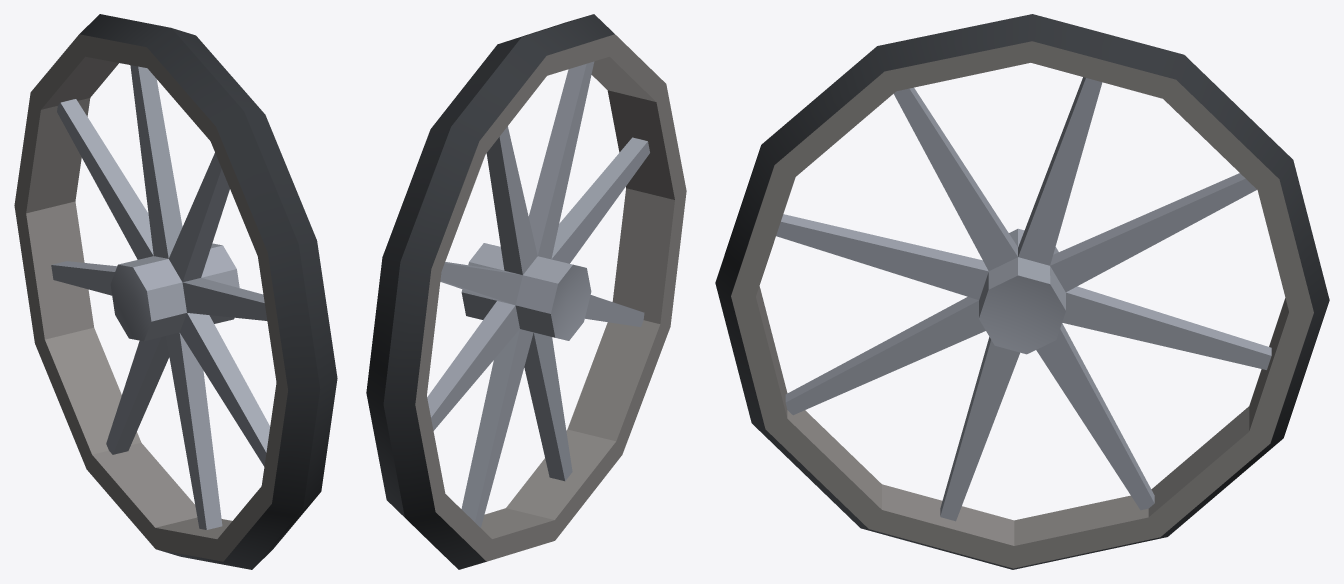
File: SM_Prop_Cart_Tray_Wheel_rl.fbx
3 views of the same model, side by side, from view 1: azimuth 30°, elevation 25°; view 2: azimuth 150°, elevation 25°; view 3: azimuth 270°, elevation 25° (orthographic). The views are drawn at different scales.
Parts seen in each view (by area): view 1: SM_Prop_Cart_Tray_Wheel_rl; view 2: SM_Prop_Cart_Tray_Wheel_rl; view 3: SM_Prop_Cart_Tray_Wheel_rl.
Boxes of the visible parts, x1=… form: SM_Prop_Cart_Tray_Wheel_rl: x1=14, y1=14, x2=337, y2=569; SM_Prop_Cart_Tray_Wheel_rl: x1=366, y1=14, x2=686, y2=569; SM_Prop_Cart_Tray_Wheel_rl: x1=715, y1=14, x2=1329, y2=569.
Size of the model in its own units: 10.61 by 58.8 by 58.89.
